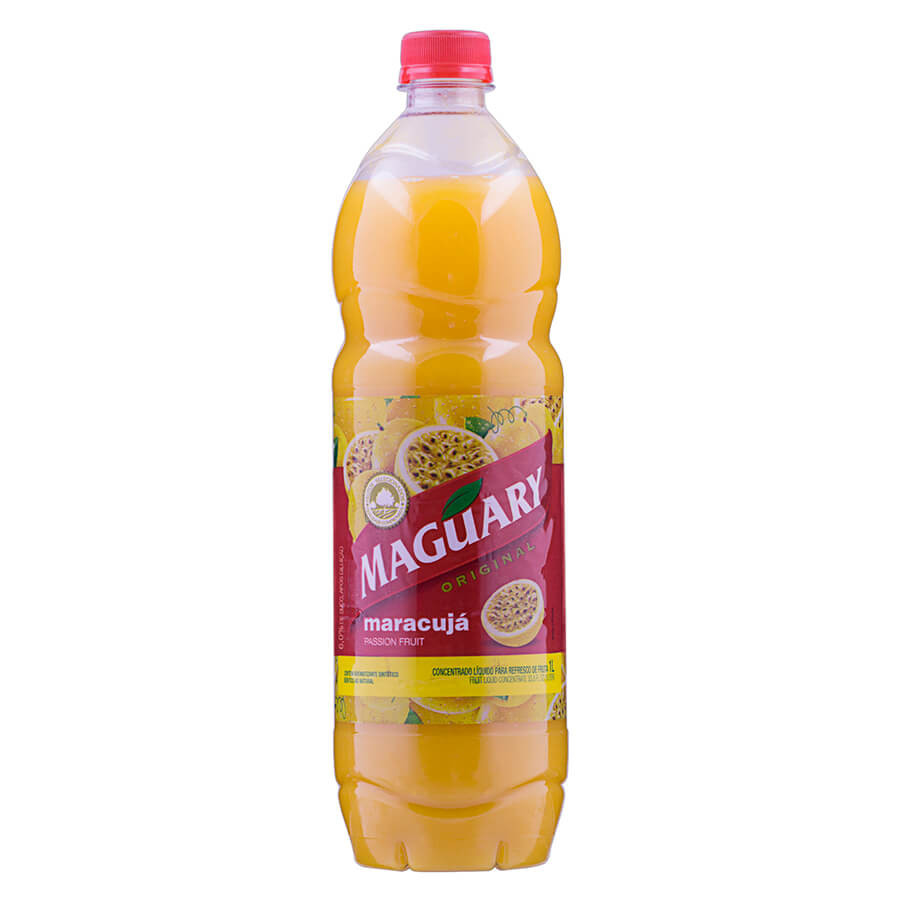maguary: (301, 19, 596, 899)
